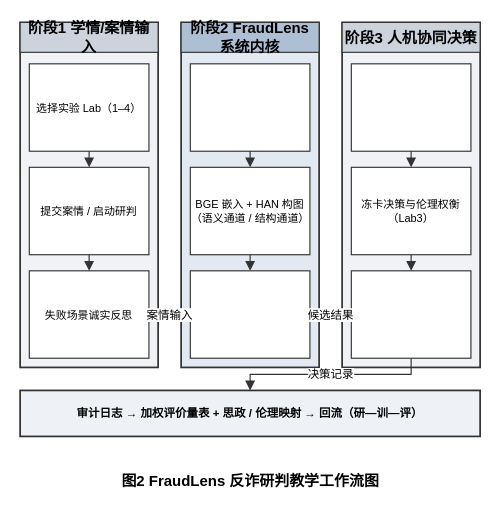
Some shapes in this 501 by 514 pixel diagram are drawn without their labels. The shapes that lost their labels are listed below. From the top down, each one's box as (x1, y1, x2, y2) in pixels, then its label:
(189, 63, 310, 151): 预处理：案情清洗 / 字段对齐
(350, 63, 471, 151): 规则 vs AI 建议对比（Lab1 / Lab2）
(189, 270, 310, 358): LangGraph 反思闭环：plan→preprocess→analyze→cluster→reflect
(350, 270, 471, 358): 边界认知与诚实反思（Lab4）
